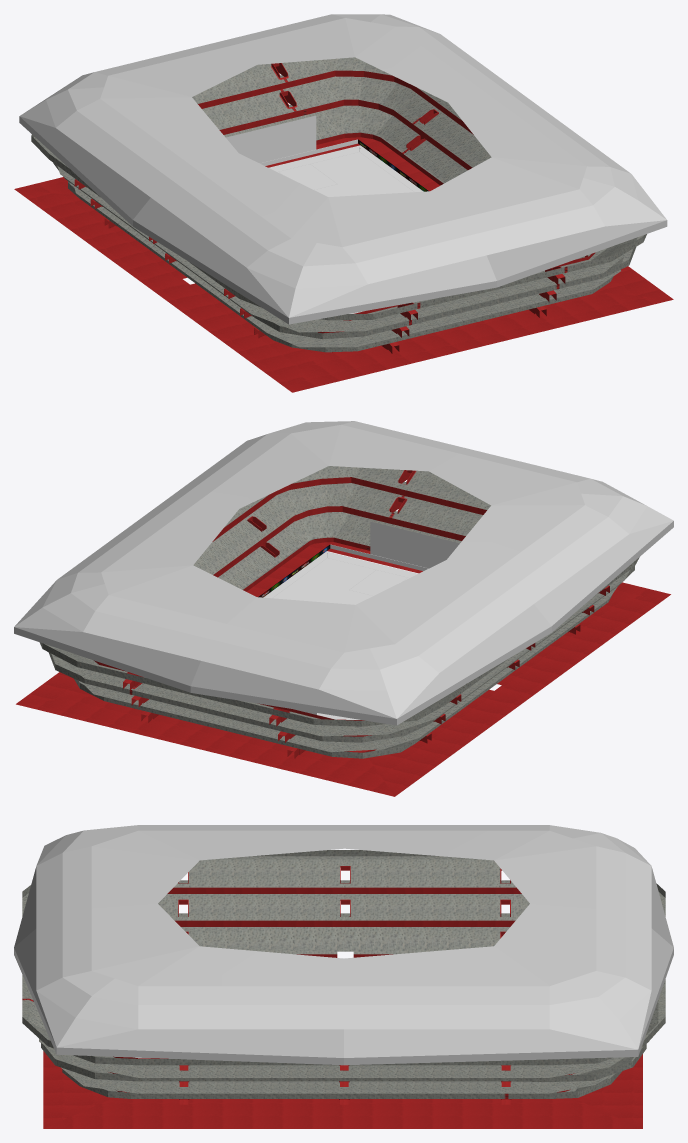
The model's file is SoccerStadium.fbx.
The picture shows the model from 3 angles, top to bottom: view 1: azimuth 30°, elevation 25°; view 2: azimuth 150°, elevation 25°; view 3: azimuth 270°, elevation 25°; orthographic projection. The views are drawn at different scales.
Parts seen in each view (by area): view 1: roof2, stadiumBaseMesh, Pitch, Fence, spectatorsEntrances; view 2: roof2, stadiumBaseMesh, Pitch, Fence, spectatorsEntrances; view 3: roof2, stadiumBaseMesh, spectatorsEntrances.
Boxes of the visible parts, box(x1,y1,x2,y2) form: roof2: box(19, 14, 667, 324); stadiumBaseMesh: box(14, 57, 673, 392); Pitch: box(268, 145, 423, 313); Fence: box(226, 115, 316, 163); spectatorsEntrances: box(74, 63, 565, 353); roof2: box(14, 421, 673, 725); stadiumBaseMesh: box(16, 466, 670, 796); Pitch: box(263, 551, 417, 719); Fence: box(294, 521, 459, 714); spectatorsEntrances: box(123, 470, 609, 758); roof2: box(14, 825, 673, 1065); stadiumBaseMesh: box(22, 850, 665, 1128); spectatorsEntrances: box(178, 866, 511, 1104).
Bounding box in the file's own units: 14755 × 3987 × 18609.
